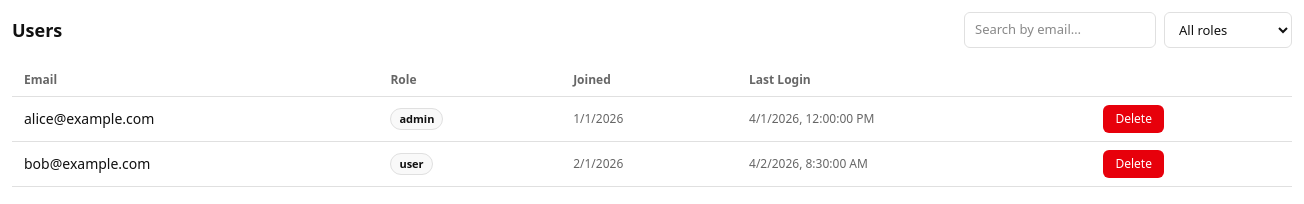
Test: UsersPanel › filters users by email
In the field with test id "email-search": (1060,30) x1=964 y1=12 x2=1156 y2=48, type "alice"
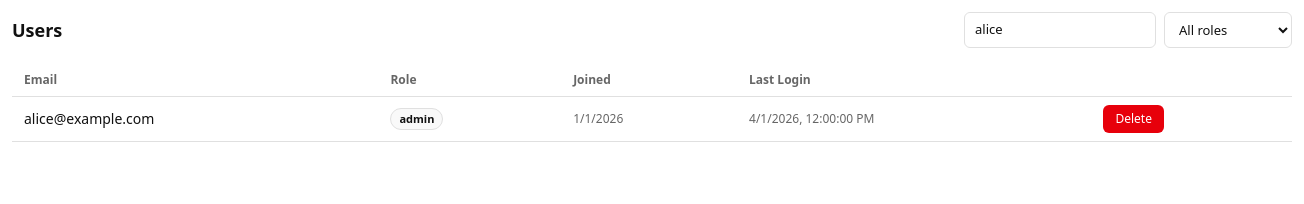
expect the text "alice@example.com" is shown: met, box x1=12 y1=96 x2=378 y2=142
expect the text "bob@example.com" is gone: met
